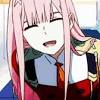zeroTwo: (6, 1, 81, 53)
